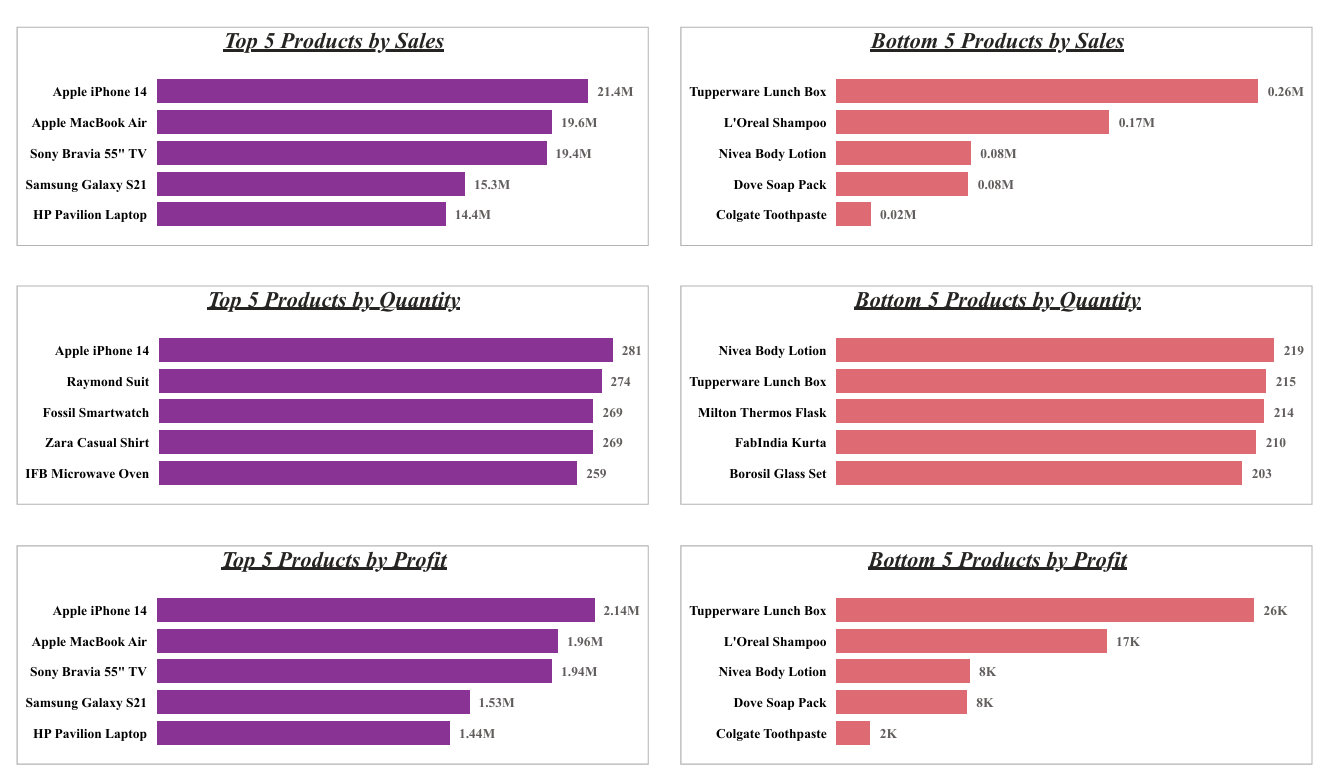

The page's visual inventory and layout, read from the dashboard file:
{"tool":"powerbi","page":{"name":"Top/Bottom 5 Analysis","canvas":[1280,720],"ordinal":1},"visuals":[{"type":"barChart","title":"Top 5 Products by Sales","fields":{"Category":["Dim Product.Product Name"],"Y":["Sum(Fact Table.Net Sales  )"]},"box":[93.3,22,561.2,194.9],"z":0},{"type":"barChart","title":"Bottom 5 Products by Sales","fields":{"Category":["Dim Product.Product Name"],"Y":["Sum(Fact Table.Net Sales  )"]},"box":[683.4,22,561.2,194.9],"z":1000},{"type":"barChart","title":"Top 5 Products by Quantity","fields":{"Category":["Dim Product.Product Name"],"Y":["Sum(Fact Table.Units Sold)"]},"box":[93.3,252.5,561.2,194.9],"z":2000},{"type":"barChart","title":"Bottom 5 Products by Quantity","fields":{"Category":["Dim Product.Product Name"],"Y":["Sum(Fact Table.Units Sold)"]},"box":[683.4,252.5,561.2,194.9],"z":3000},{"type":"barChart","title":"Top 5 Products by Profit","fields":{"Category":["Dim Product.Product Name"],"Y":["Sum(Fact Table.Profit)"]},"box":[93.3,483,561.2,194.9],"z":4000},{"type":"barChart","title":"Bottom 5 Products by Profit","fields":{"Category":["Dim Product.Product Name"],"Y":["Sum(Fact Table.Profit)"]},"box":[683.4,483,561.2,194.9],"z":5000}]}

Visuals, with their boxes on the page's 1280x720 design canvas (x1, y1, x2, y2). These are canvas units, not pixel positions in the 1332x783 screenshot, which may show the page scaled, cropped or inside an application window:
"Top 5 Products by Sales" barChart: BBox(93, 22, 654, 217)
"Bottom 5 Products by Sales" barChart: BBox(683, 22, 1245, 217)
"Top 5 Products by Quantity" barChart: BBox(93, 252, 654, 447)
"Bottom 5 Products by Quantity" barChart: BBox(683, 252, 1245, 447)
"Top 5 Products by Profit" barChart: BBox(93, 483, 654, 678)
"Bottom 5 Products by Profit" barChart: BBox(683, 483, 1245, 678)
